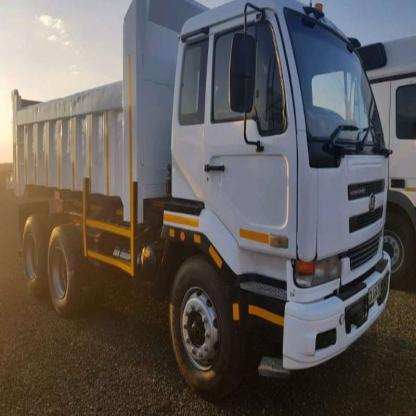dump_truck: (5, 1, 394, 400)
